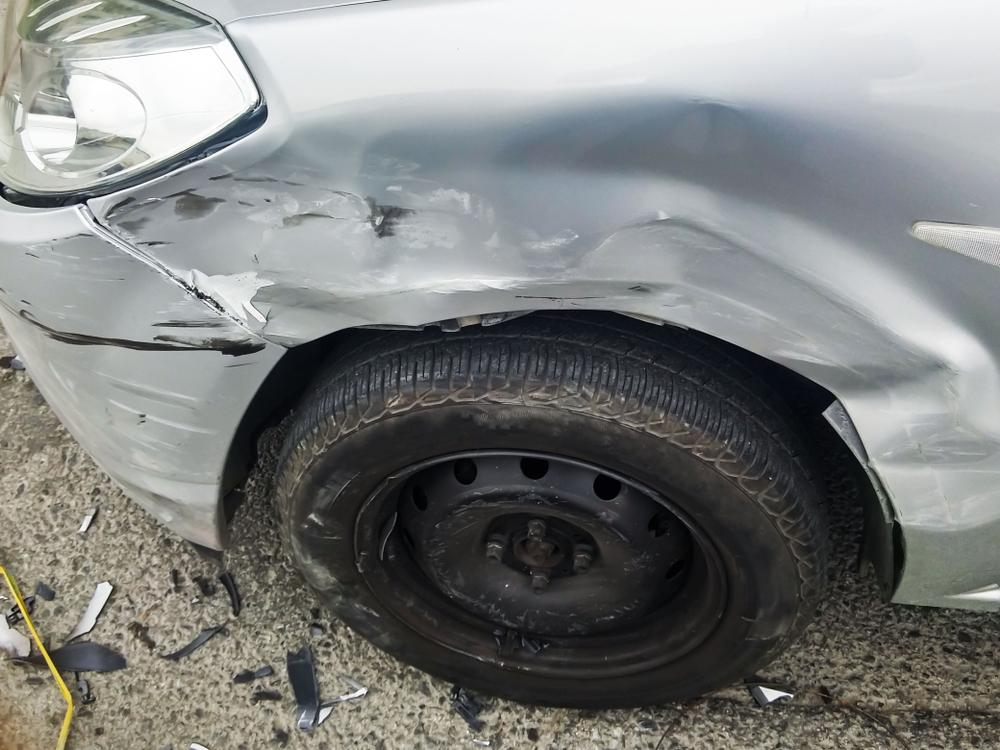dent: (101, 104, 1000, 542)
scratch: (0, 230, 266, 505)
